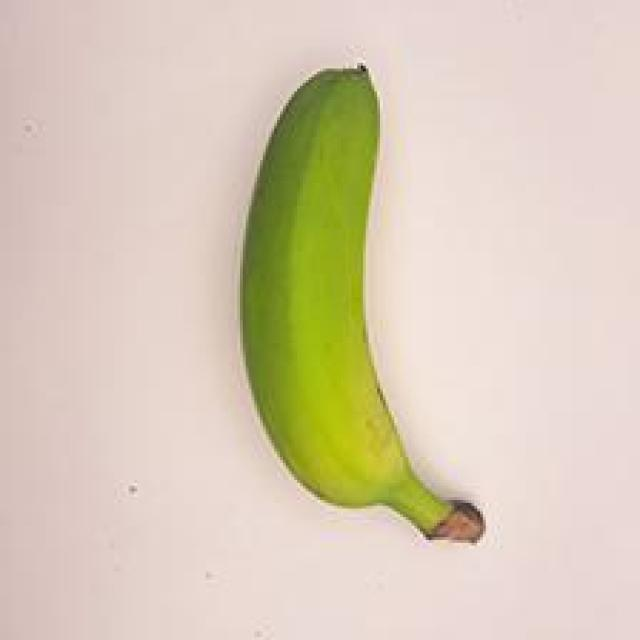Unripe: (184, 53, 506, 576)
